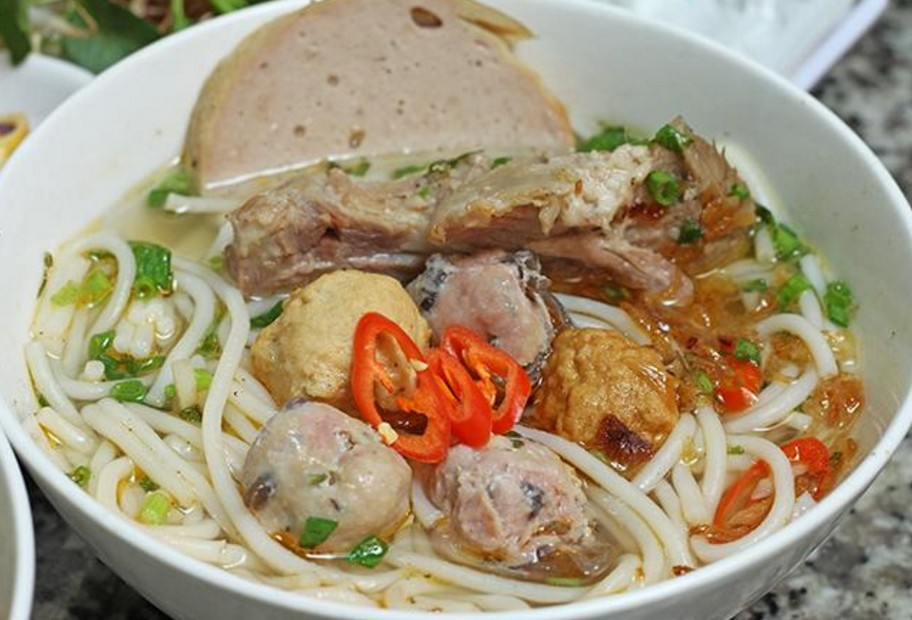beef: (214, 161, 423, 281), (451, 167, 670, 266)
chamoc: (181, 1, 572, 159), (250, 393, 410, 554), (433, 432, 595, 572)
chilli: (352, 311, 506, 438)
